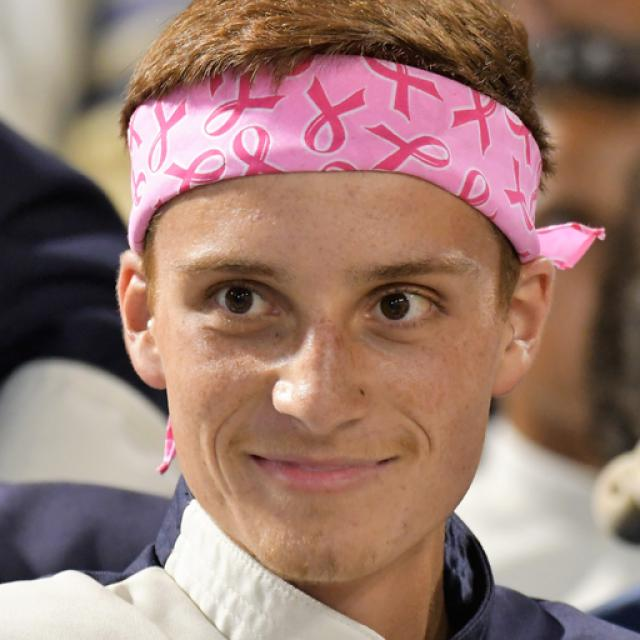Pigmentation: (307, 311, 356, 394)
